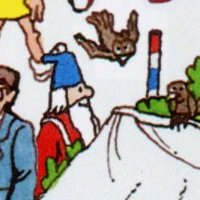wb: (42, 51, 94, 114)
